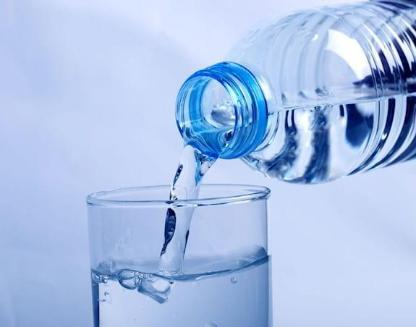Plastic Bottle: (174, 0, 416, 188)
